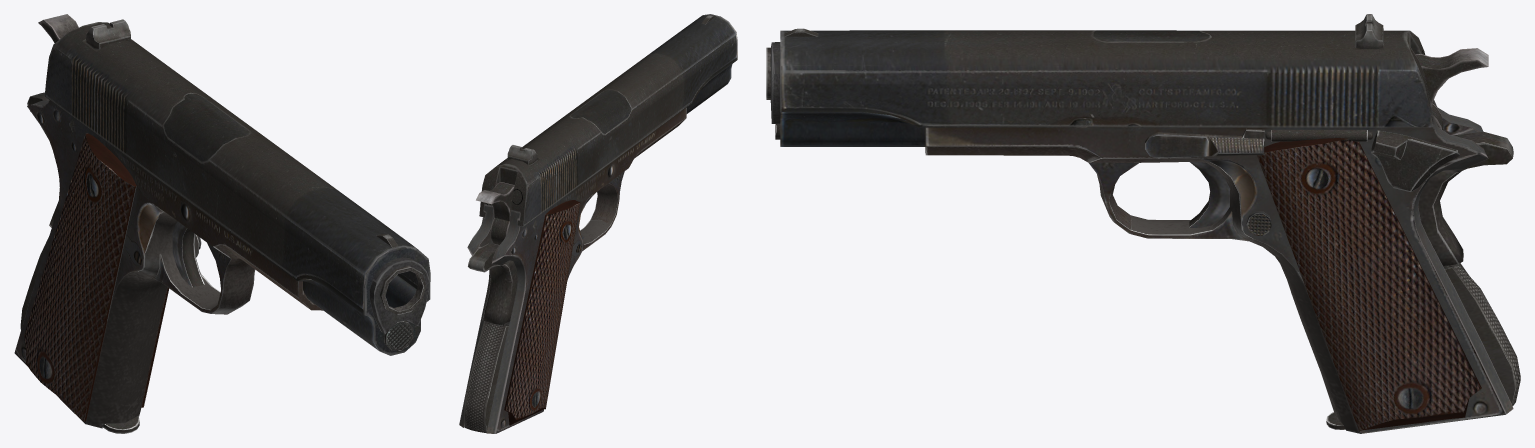
The model's file is GunColt.glb.
3 renders of one model, left to right at view 1: azimuth 30°, elevation 25°; view 2: azimuth 150°, elevation 25°; view 3: azimuth 270°, elevation 25°, orthographic. The views are drawn at different scales.
Parts seen in each view (by area): view 1: MESH, MESH.001, MESH.003, MESH.002; view 2: MESH, MESH.001, MESH.002; view 3: MESH, MESH.001, MESH.002, MESH.003.
Boxes of the visible parts, left/top/right/bottom form: MESH: left=14, top=19, right=322, bottom=433; MESH.001: left=44, top=22, right=430, bottom=355; MESH.003: left=369, top=234, right=429, bottom=350; MESH.002: left=38, top=14, right=78, bottom=42; MESH: left=459, top=108, right=686, bottom=433; MESH.001: left=479, top=14, right=737, bottom=226; MESH.002: left=476, top=182, right=514, bottom=245; MESH: left=925, top=14, right=1520, bottom=433; MESH.001: left=780, top=30, right=1433, bottom=146; MESH.002: left=1415, top=48, right=1488, bottom=129; MESH.003: left=766, top=17, right=1375, bottom=139.
Bounding box in the file's own units: 0.0295 × 0.1259 × 0.2143.
Materials: 1 (1 with a texture image).
